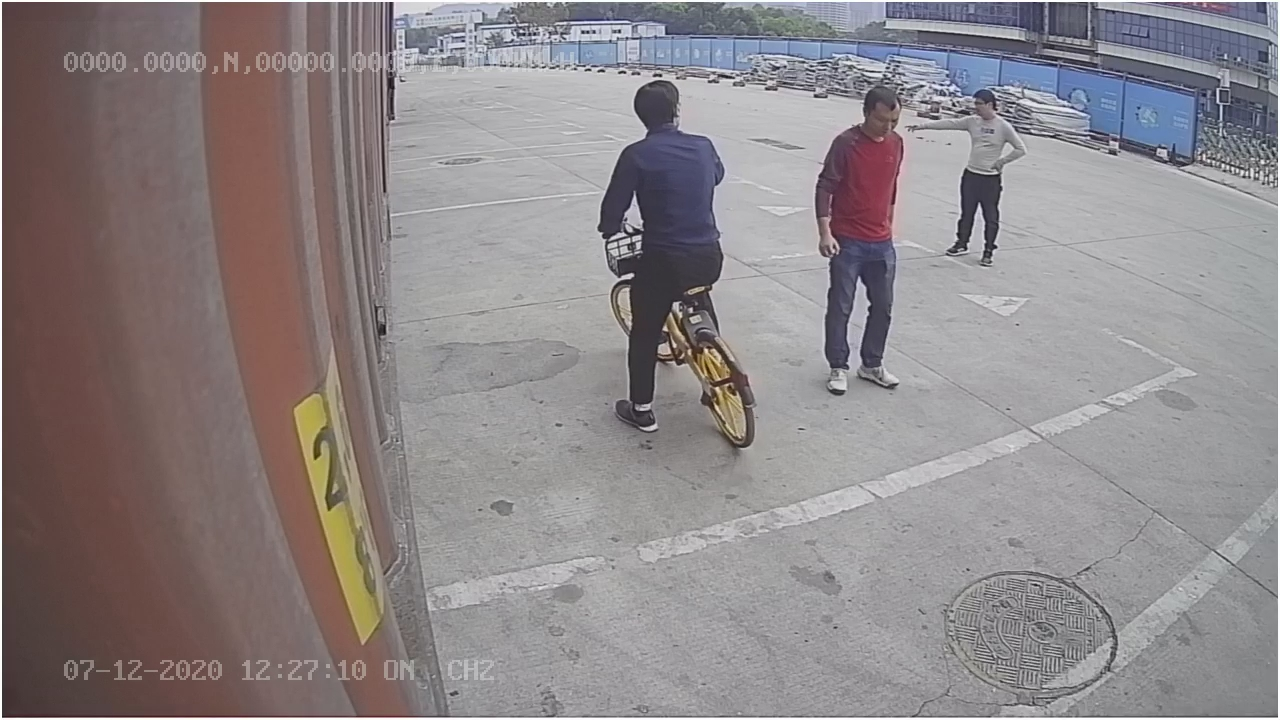person: (807, 80, 914, 399)
